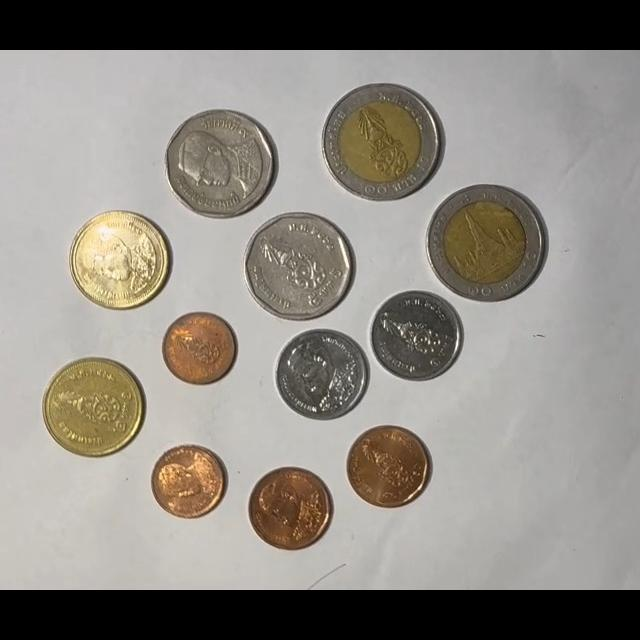1-baht: (274, 328, 368, 421), (370, 290, 463, 382)
10-baht: (321, 83, 442, 202), (427, 185, 546, 302)
2-baht: (42, 357, 146, 458), (70, 210, 170, 311)
25-satang: (151, 444, 228, 520), (162, 311, 237, 384)
5-baht: (165, 109, 277, 220), (244, 212, 354, 321)
50-satang: (247, 467, 333, 551), (346, 425, 431, 509)
